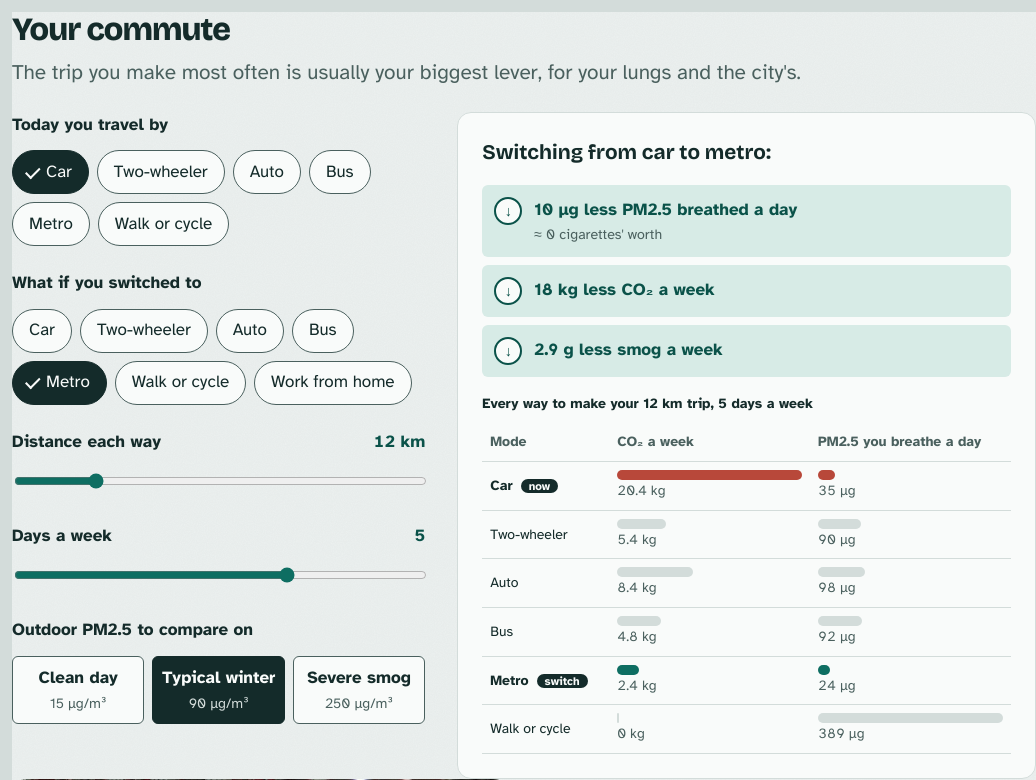
ImpactLab › is accessible and updates the comparison live
Expected: the list named "Commute change" shows "kg less CO₂ a week", [534,280,715,300]
// Switching to the same mode shows no change.
Click the radio button labelled "Car" below "Today you travel by" at [50, 172], box [12,150,89,194]
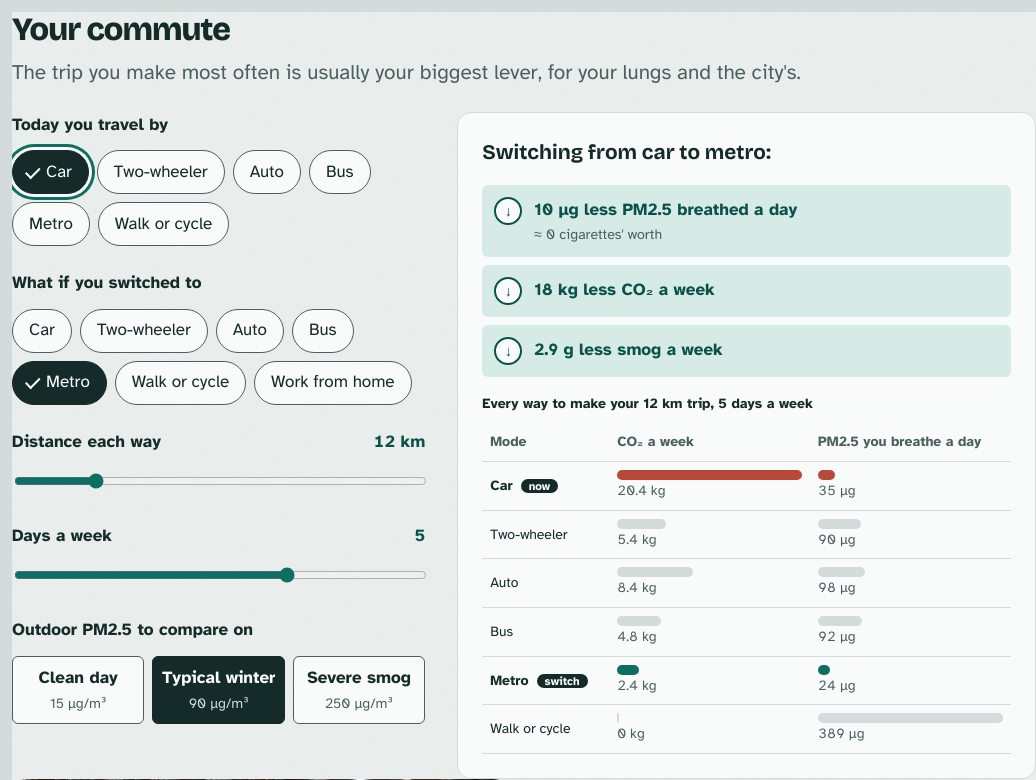
Click the radio button labelled "Car" below "What if you switched to" at [42, 331], box [12,309,72,353]
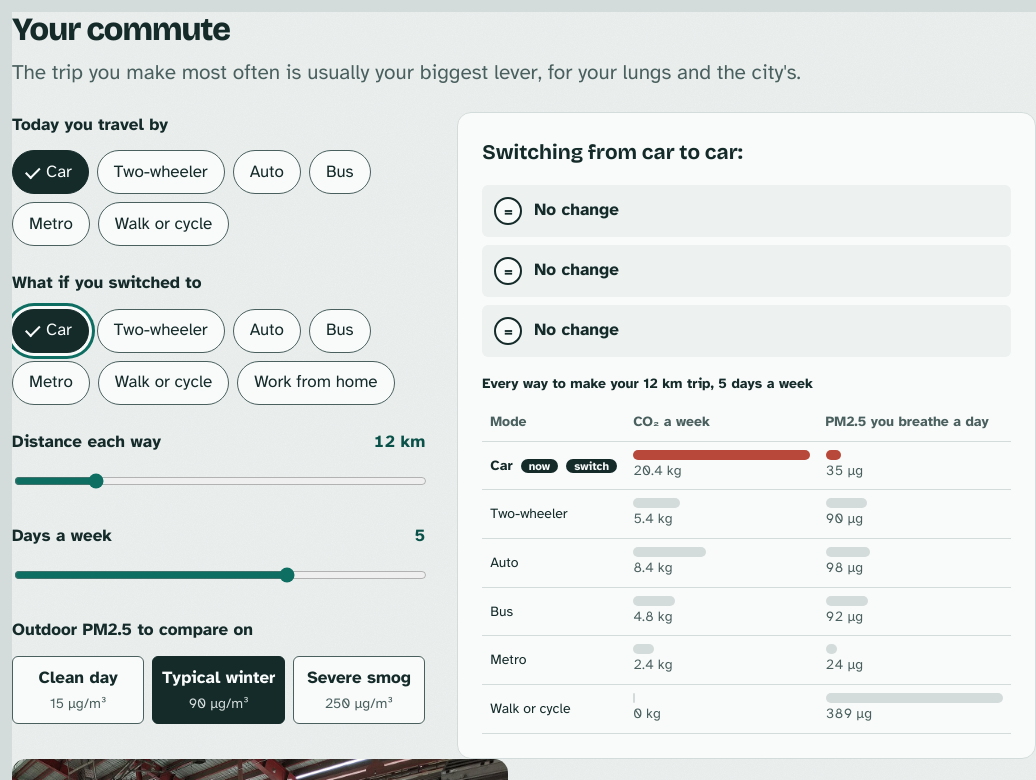
Expected: the list named "Commute change" shows "No change", [534,199,619,220]
